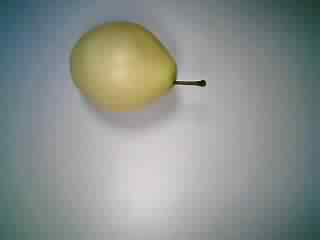pear: (62, 14, 214, 119)
